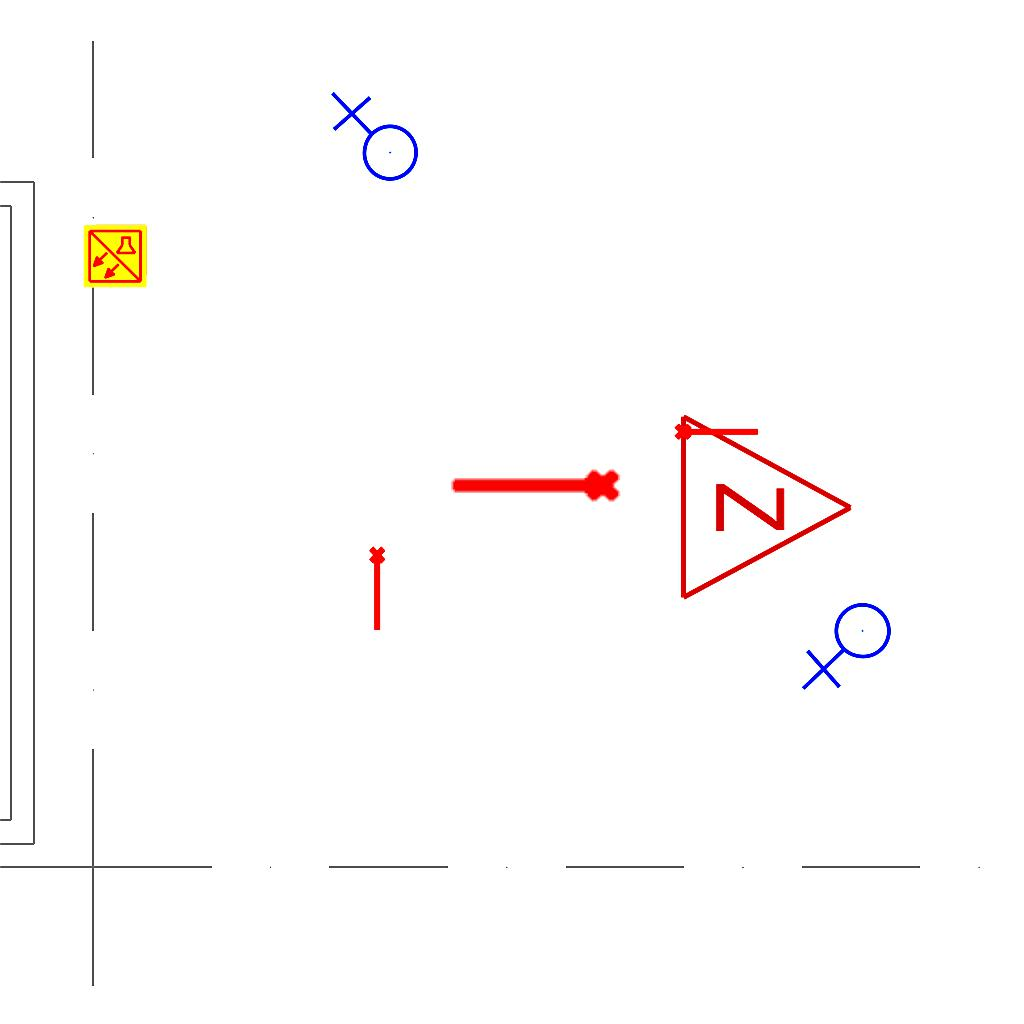ASR_Ansaugoeffnung: (447, 465, 623, 511), (367, 545, 390, 633), (673, 419, 761, 442)
Elektroanschluss_allgemein_230V_Geraeteanschlussdose_230V: (801, 601, 900, 695), (326, 91, 420, 190)
OKW_Multisensormelder_(Kombination_optischer_Rauch-Kahlenmonoxid_Waerme-Melder): (82, 223, 148, 289)
Zimmersignalleuchte: (666, 407, 866, 603)
